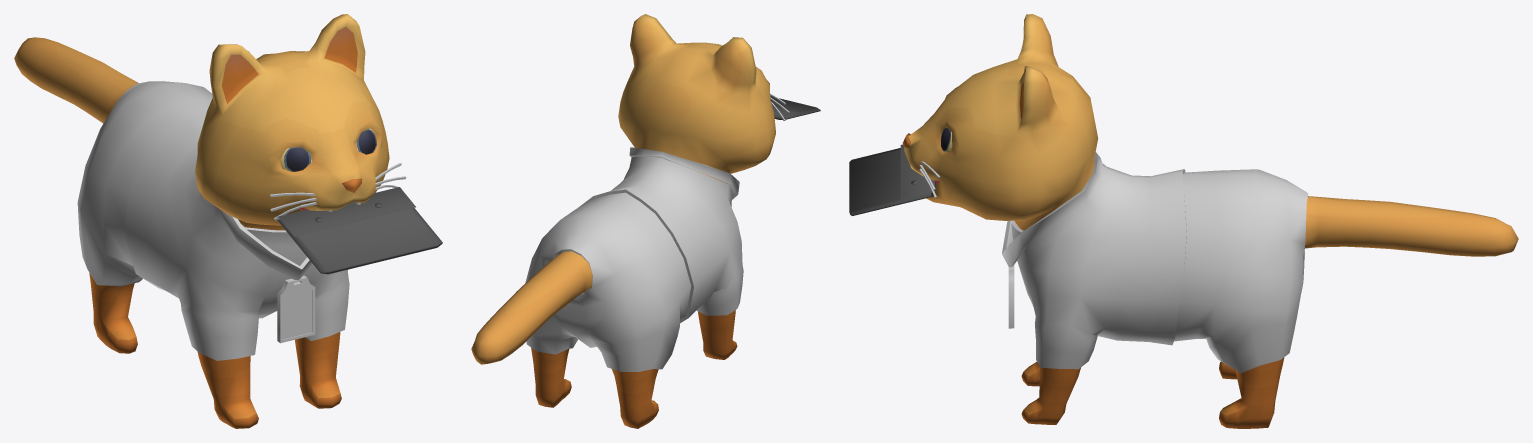
The model's file is Student Cat_Envelope.obj.
3 views of the same model, side by side, from view 1: azimuth 30°, elevation 25°; view 2: azimuth 150°, elevation 25°; view 3: azimuth 270°, elevation 25° (orthographic). The views are drawn at different scales.
Visible parts, largest first — view 1: Cat001, Clothes, Plastic_Envelope; view 2: Clothes, Cat001, Plastic_Envelope; view 3: Clothes, Cat001, Plastic_Envelope.
Part boxes in pixels (left/top/right/bottom): Cat001: left=14, top=14, right=406, bottom=428; Clothes: left=77, top=81, right=349, bottom=360; Plastic_Envelope: left=277, top=187, right=442, bottom=274; Clothes: left=525, top=147, right=743, bottom=371; Cat001: left=471, top=14, right=789, bottom=428; Plastic_Envelope: left=770, top=96, right=820, bottom=119; Clothes: left=1002, top=152, right=1308, bottom=372; Cat001: left=902, top=14, right=1518, bottom=428; Plastic_Envelope: left=849, top=144, right=935, bottom=215.
Bounding box in the file's own units: 70.69 × 146 × 247.
